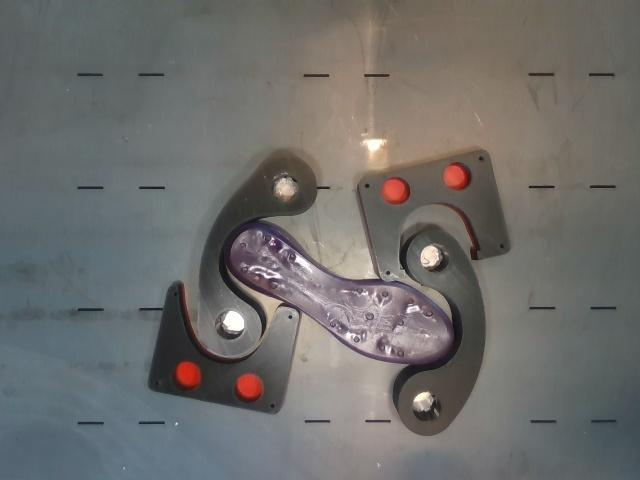shoes: (225, 222, 455, 364)
